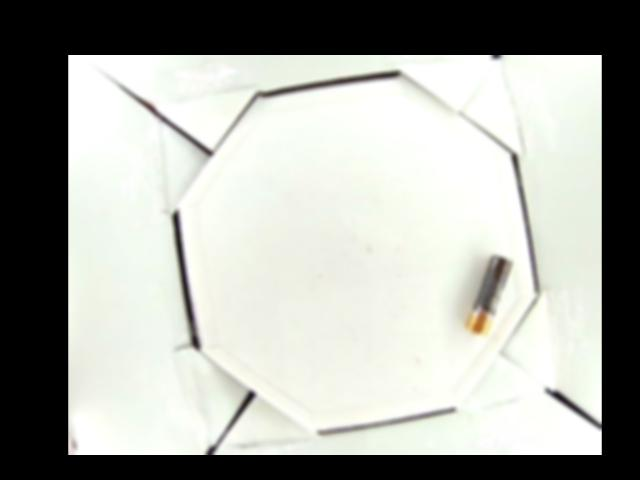Battery: (464, 255, 516, 338)
